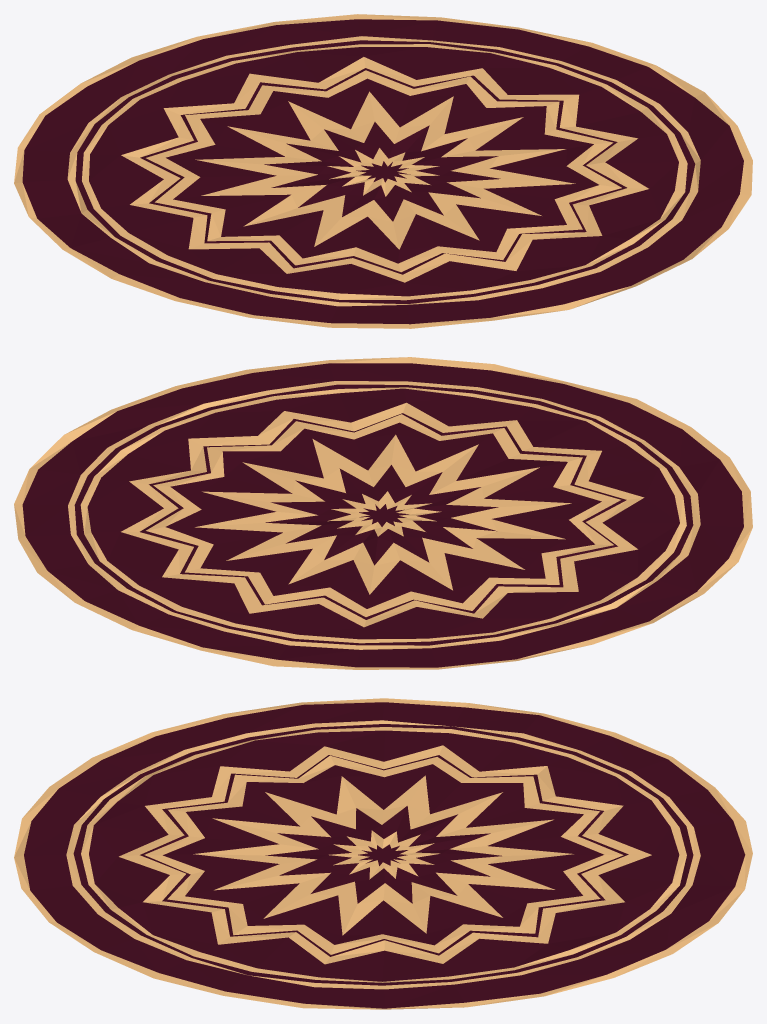
Rendered from AWS_Carpet_001.fbx.
3 views of the same model, one above another, from view 1: azimuth 30°, elevation 25°; view 2: azimuth 150°, elevation 25°; view 3: azimuth 270°, elevation 25° (orthographic).
Visible parts, largest first — view 1: AWS_Carpet_001; view 2: AWS_Carpet_001; view 3: AWS_Carpet_001.
Boxes of the visible parts, x1,y1,x2,y2 form: AWS_Carpet_001: (14,14,752,328); AWS_Carpet_001: (14,357,752,669); AWS_Carpet_001: (14,698,752,1009).
Bounding box in the file's own units: 211 × 1.56 × 211.
